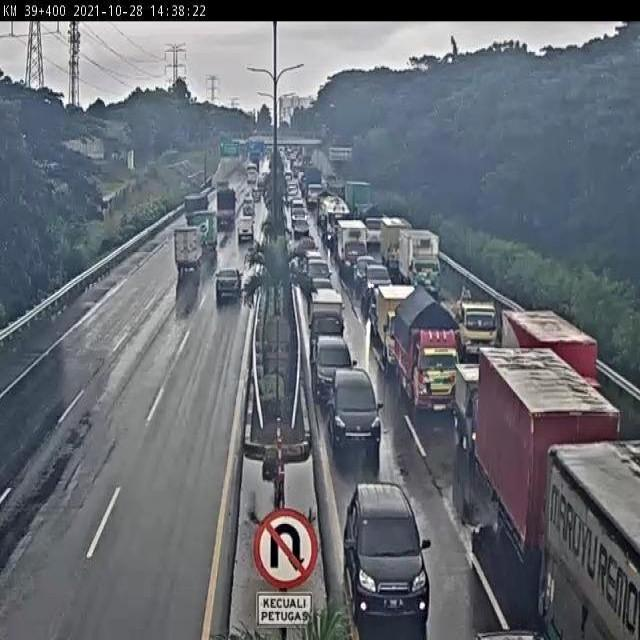big truck: (480, 344, 610, 551), (547, 444, 640, 640), (503, 304, 604, 375), (444, 278, 501, 346)
car: (343, 468, 428, 621), (322, 359, 384, 465), (313, 330, 355, 394), (210, 256, 244, 309), (233, 216, 260, 247)
small truck: (399, 294, 458, 406), (455, 367, 498, 457), (380, 288, 419, 369), (400, 227, 447, 292), (308, 290, 345, 350), (381, 216, 414, 275), (337, 220, 370, 277), (170, 230, 205, 270), (187, 213, 216, 260), (216, 189, 237, 232), (366, 265, 392, 295)
